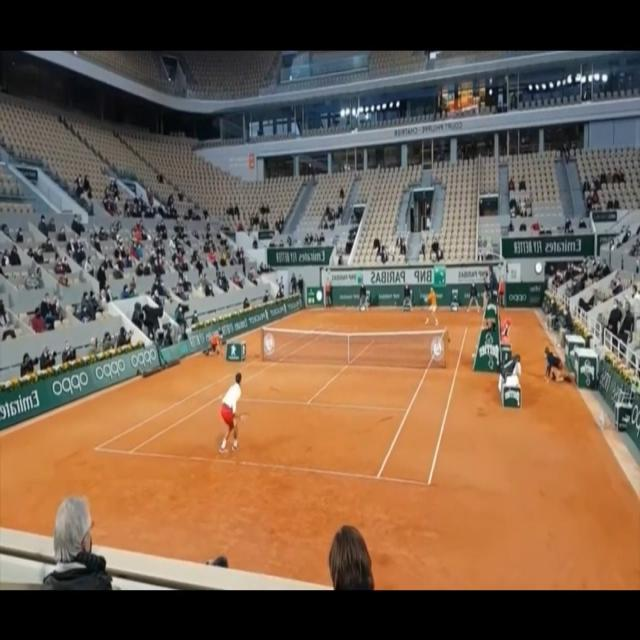court: (94, 326, 468, 487)
net: (258, 328, 450, 370)
player: (218, 370, 249, 454)
